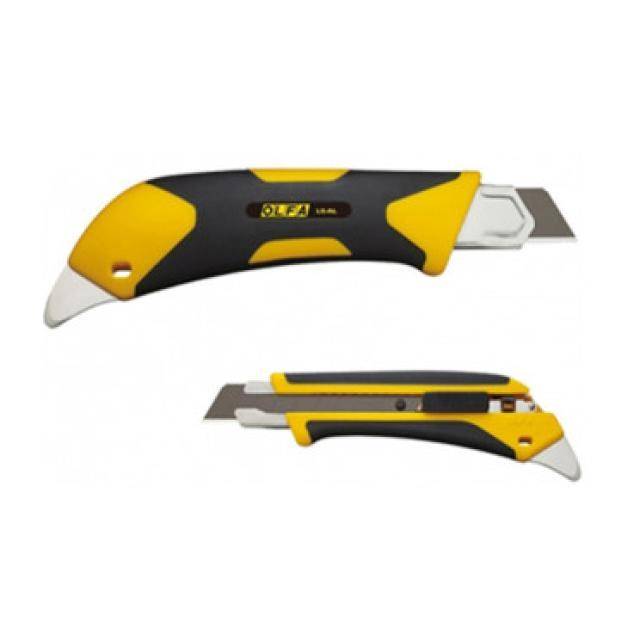cutter: (42, 160, 578, 354), (198, 358, 598, 496)
